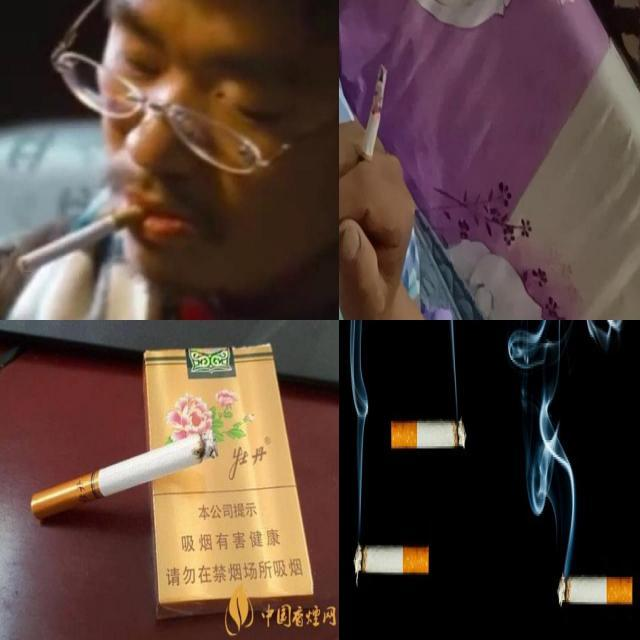smoke: (31, 430, 218, 520), (16, 198, 158, 274), (354, 61, 390, 188), (354, 540, 431, 578), (557, 572, 633, 608), (391, 420, 467, 450)
